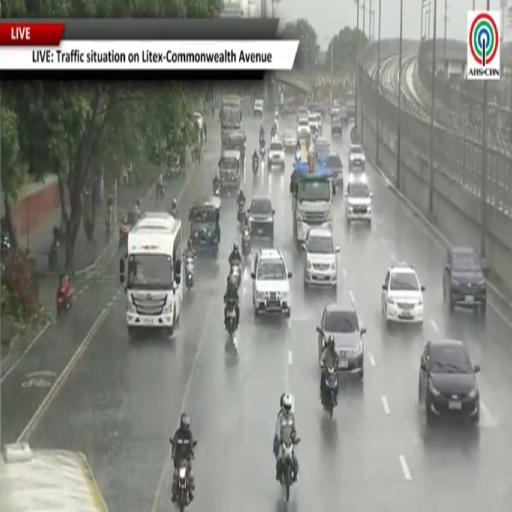bus: (0, 443, 107, 511)
car: (419, 340, 479, 423), (317, 294, 366, 378), (443, 247, 486, 313), (251, 249, 291, 317), (382, 263, 425, 324), (303, 228, 339, 287), (345, 175, 372, 223), (248, 196, 275, 241), (327, 152, 343, 187), (268, 140, 285, 170), (349, 144, 365, 172), (315, 136, 329, 161), (283, 130, 297, 150), (297, 118, 310, 139), (330, 115, 342, 137), (308, 114, 318, 133), (330, 101, 341, 118), (193, 112, 203, 130), (253, 100, 263, 117), (297, 106, 308, 120), (316, 112, 323, 133), (340, 107, 348, 124)
jeepney: (189, 197, 221, 254), (219, 150, 242, 191), (224, 131, 246, 162)
motorcycle: (280, 439, 300, 502), (321, 367, 338, 418), (176, 460, 190, 511), (48, 227, 62, 270), (57, 282, 73, 316), (226, 300, 236, 337), (48, 238, 59, 270), (167, 155, 181, 179), (185, 254, 194, 290), (230, 263, 241, 289), (242, 226, 251, 257), (2, 233, 11, 255), (237, 201, 245, 224), (156, 184, 165, 202), (212, 180, 221, 198), (252, 158, 259, 175), (106, 219, 111, 242), (259, 138, 265, 156), (170, 208, 178, 217)
truck: (120, 213, 183, 337), (292, 143, 333, 244), (220, 95, 242, 145), (344, 92, 356, 119)
